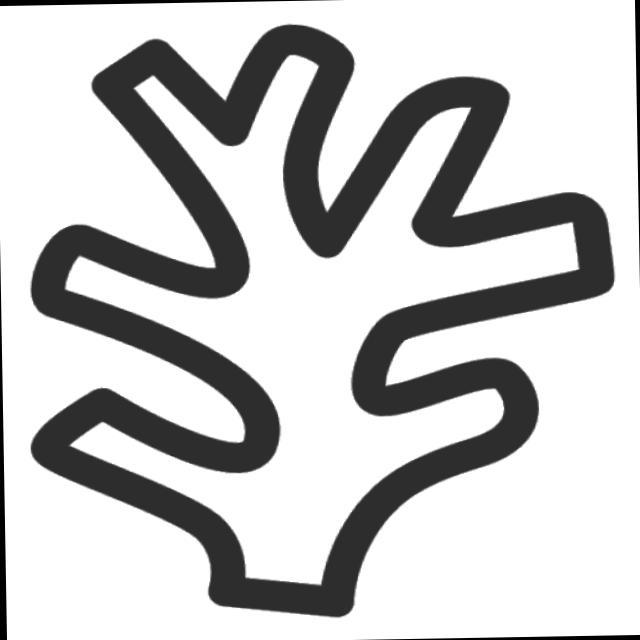coral: (6, 9, 630, 627)
